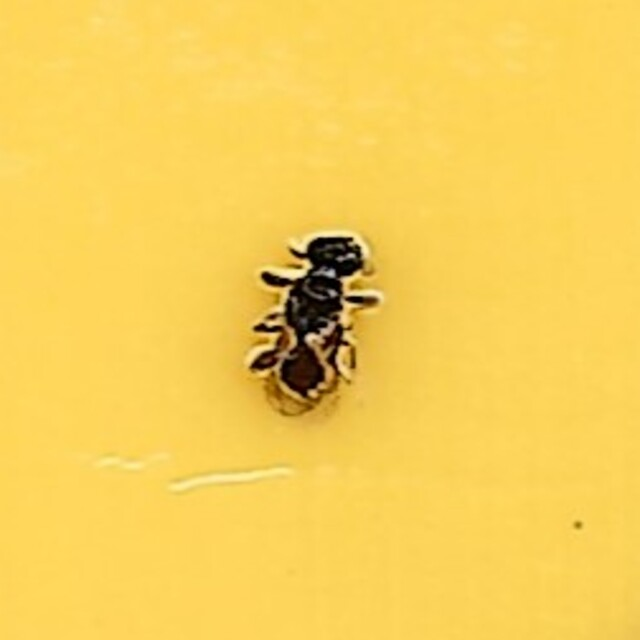Hymenoptera: (254, 226, 386, 414)
